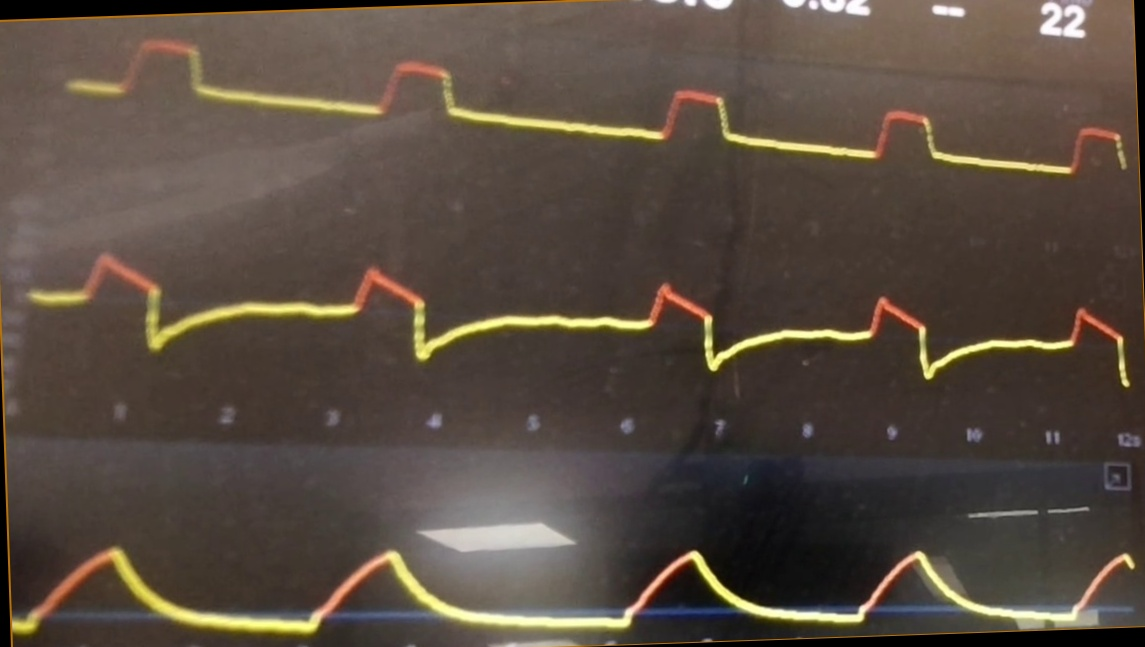Normal Flow: (36, 211, 1145, 392)
Normal Volume: (12, 514, 1136, 643)
